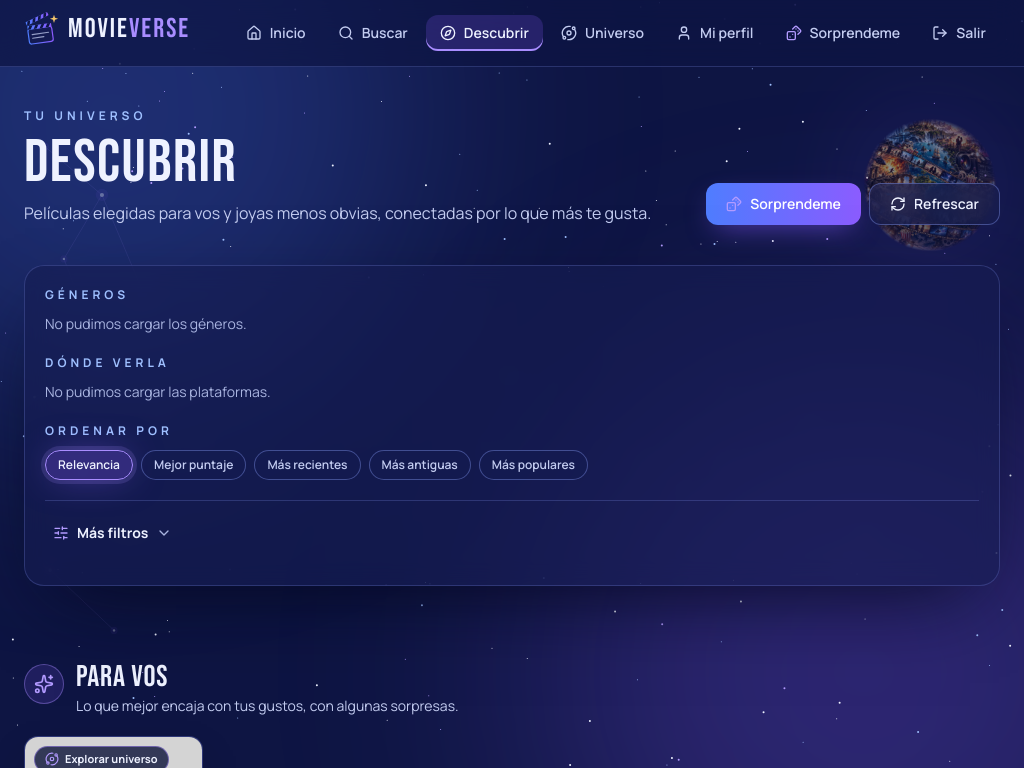
DiscoverPage › refreshes the recommendations
Click the button "Refrescar": (934, 204) top-left (869, 183), bottom-right (1000, 225)
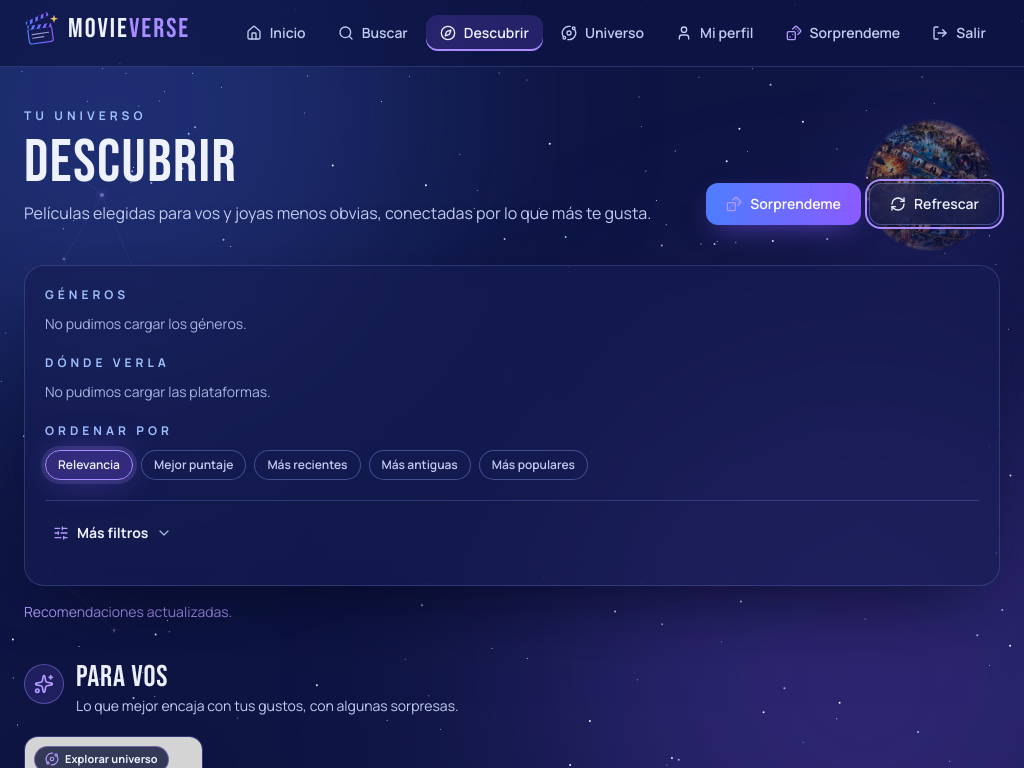
Expected: the text "Recomendaciones actualizadas." is shown, top-left (24, 602), bottom-right (232, 621)
